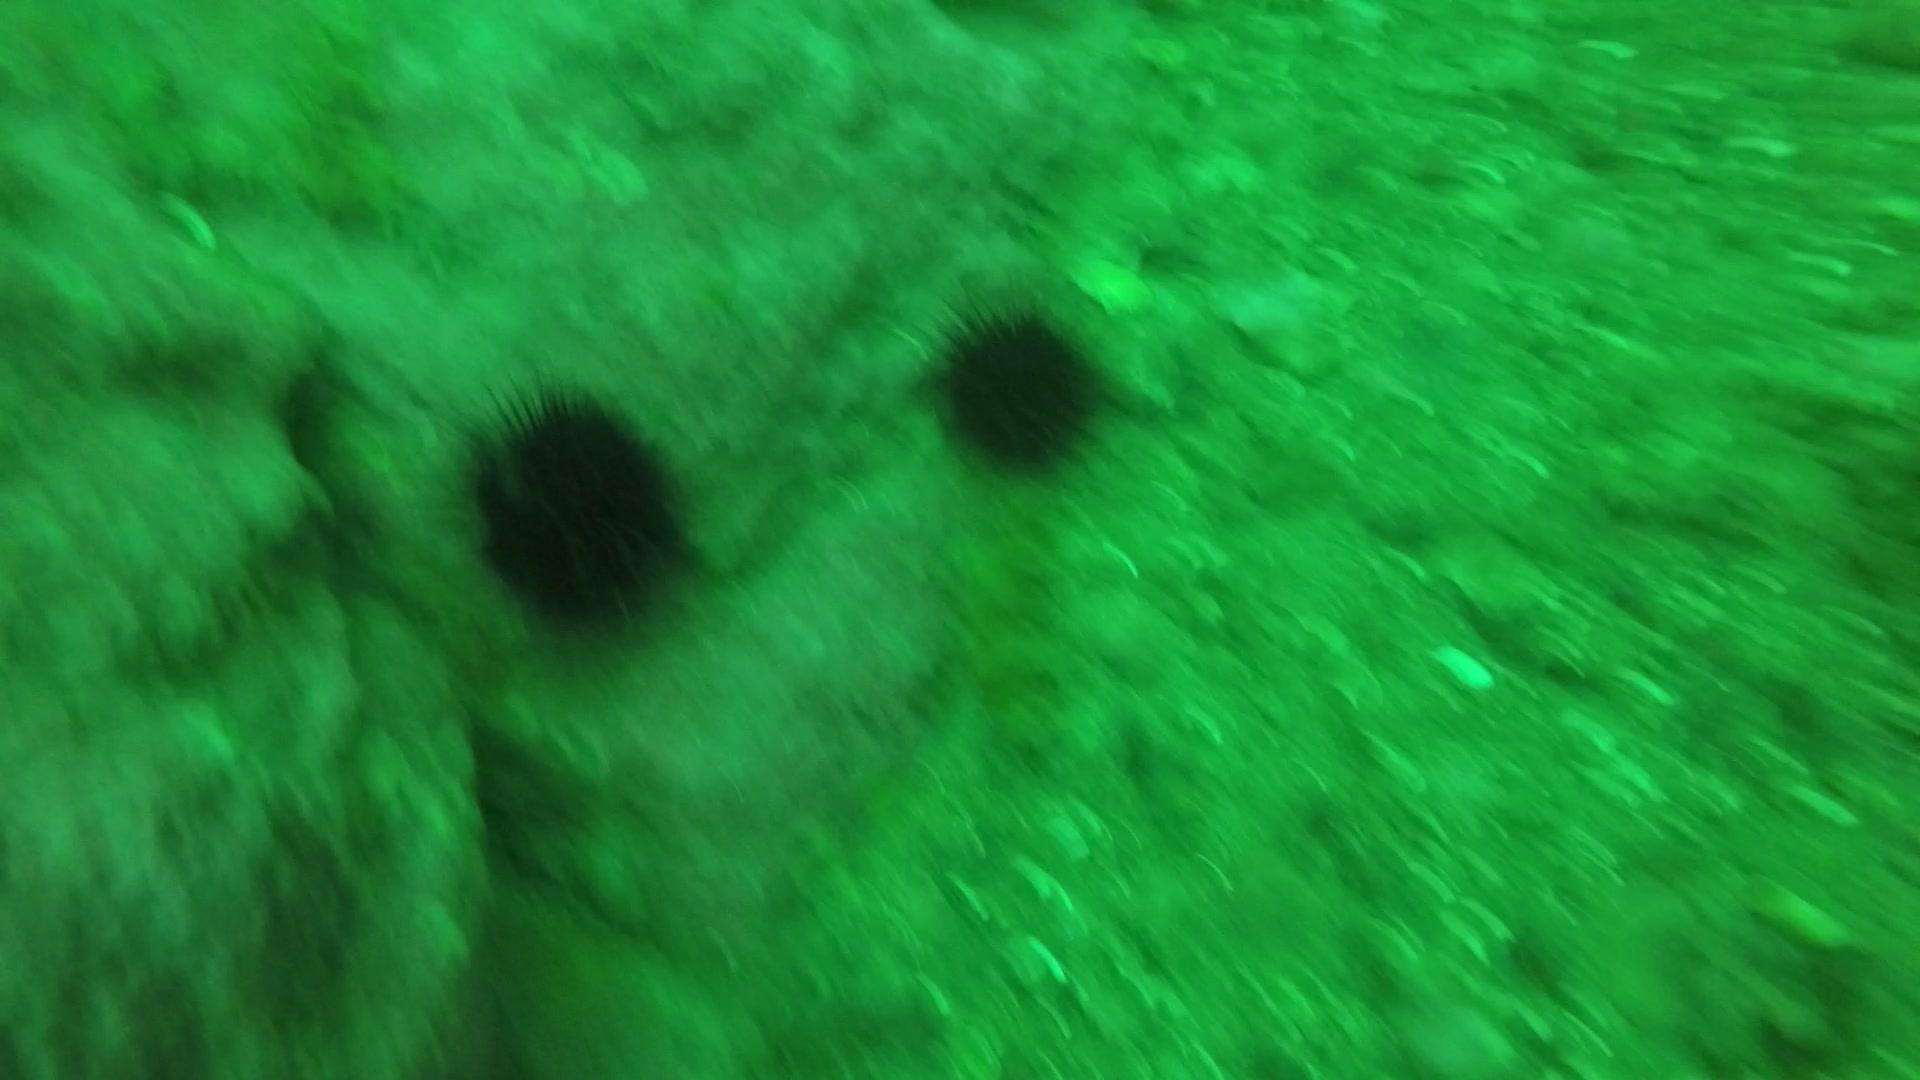urchin: (448, 390, 725, 661), (930, 297, 1120, 485)
